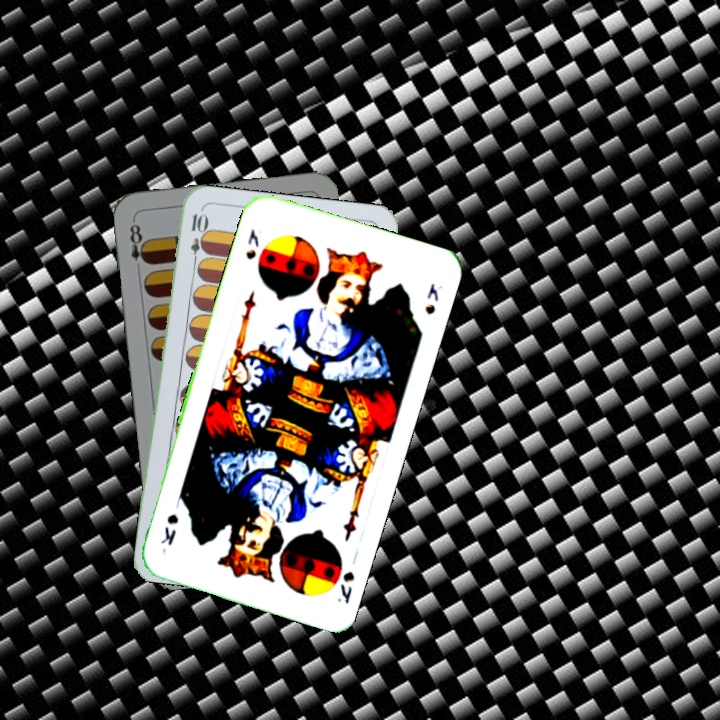E10: (186, 210, 207, 269)
E8: (126, 217, 151, 276)
SK: (333, 550, 359, 607), (241, 224, 262, 262)
